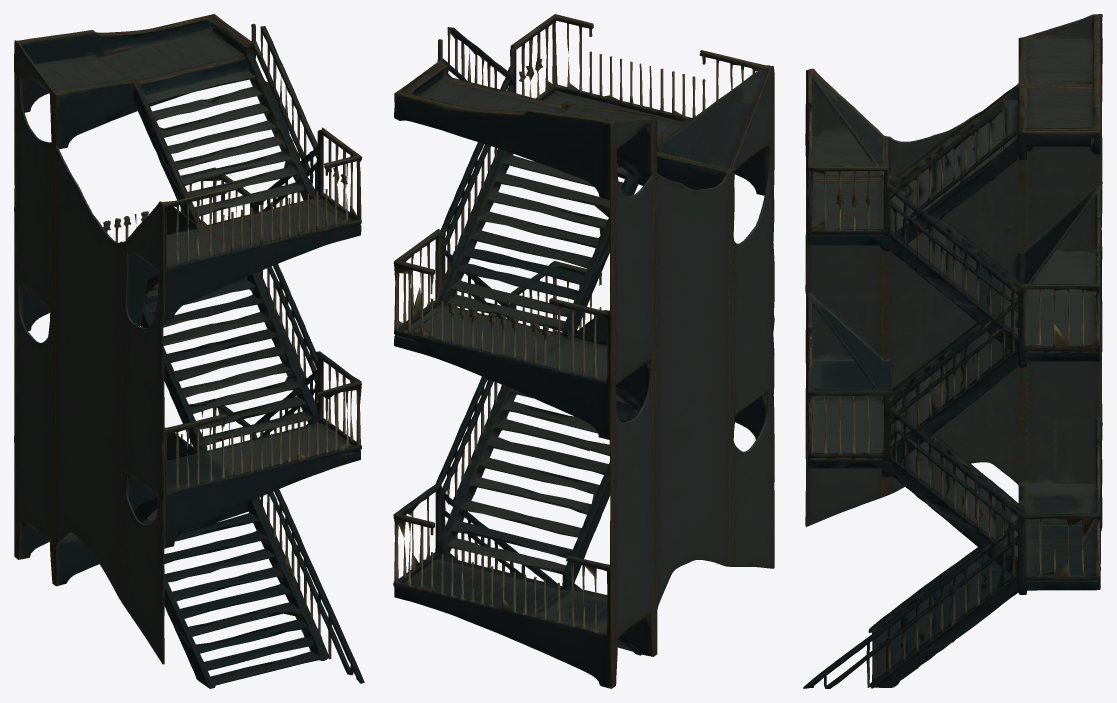
The model's file is fireescape3d.glb.
3 views of the same model, side by side, from view 1: azimuth 30°, elevation 25°; view 2: azimuth 150°, elevation 25°; view 3: azimuth 270°, elevation 25° (orthographic). The views are drawn at different scales.
Parts seen in each view (by area): view 1: tripo_node_e4b07314-0399-4429-9e9d-00c9cffb6aff; view 2: tripo_node_e4b07314-0399-4429-9e9d-00c9cffb6aff; view 3: tripo_node_e4b07314-0399-4429-9e9d-00c9cffb6aff.
Boxes of the visible parts, x1,y1,x2,y2 form: tripo_node_e4b07314-0399-4429-9e9d-00c9cffb6aff: (14, 14, 364, 688); tripo_node_e4b07314-0399-4429-9e9d-00c9cffb6aff: (393, 14, 774, 688); tripo_node_e4b07314-0399-4429-9e9d-00c9cffb6aff: (803, 14, 1102, 688).
Bounding box in the file's own units: 0.3611 × 1 × 0.467.
1 material, 1 textured.
